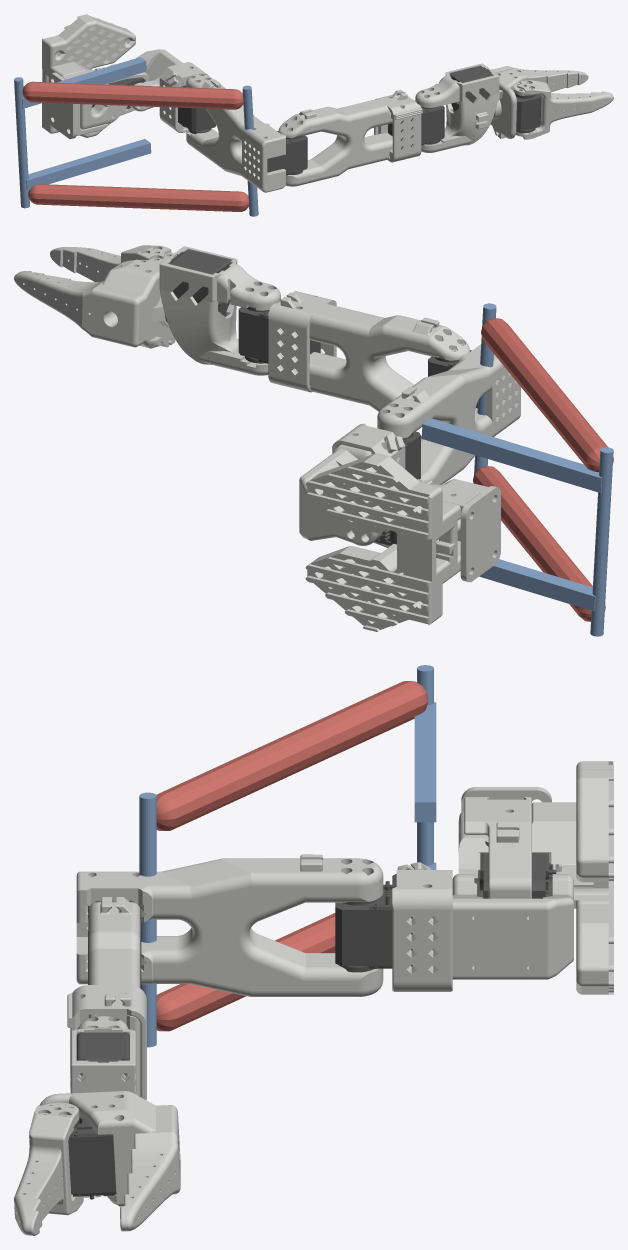
The model's file is so101_assembly.glb.
3 views of the same model, one above another, from view 1: azimuth 30°, elevation 25°; view 2: azimuth 150°, elevation 25°; view 3: azimuth 270°, elevation 25° (orthographic). The views are drawn at different scales.
Parts seen in each view (by area): view 1: under_arm_so101_v1, upper_arm_so101_v1, base_so101_v2, mckibben_muscle_1, mckibben_muscle_2, wrist_roll_pitch_so101_v2, wrist_roll_follower_so101_v1, moving_jaw_so101_v1, motor_holder_so101_wrist_v1, outrigger_beam_2, outrigger_beam_1, lower_crossbar (+10 smaller); view 2: base_so101_v2, under_arm_so101_v1, upper_arm_so101_v1, wrist_roll_follower_so101_v1, wrist_roll_pitch_so101_v2, mckibben_muscle_1, motor_holder_so101_wrist_v1, outrigger_beam_1, mckibben_muscle_2, waveshare_mounting_plate_so101_v2, rotation_pitch_so101_v1, outrigger_beam_2 (+8 smaller); view 3: upper_arm_so101_v1, base_so101_v2, mckibben_muscle_1, rotation_pitch_so101_v1, wrist_roll_follower_so101_v1, motor_holder_so101_base_v1, moving_jaw_so101_v1, base_motor_holder_so101_v1, under_arm_so101_v1, sts3215_03a_v1_2, mckibben_muscle_2, motor_holder_so101_wrist_v1 (+8 smaller).
Boxes of the visible parts, bbox=[...] form: under_arm_so101_v1: bbox=[278, 99, 392, 186]; upper_arm_so101_v1: bbox=[186, 74, 285, 192]; base_so101_v2: bbox=[42, 14, 135, 137]; mckibben_muscle_1: bbox=[22, 81, 243, 109]; mckibben_muscle_2: bbox=[28, 184, 249, 211]; wrist_roll_pitch_so101_v2: bbox=[415, 63, 502, 152]; wrist_roll_follower_so101_v1: bbox=[490, 66, 588, 138]; moving_jaw_so101_v1: bbox=[513, 80, 613, 139]; motor_holder_so101_wrist_v1: bbox=[374, 89, 422, 162]; outrigger_beam_2: bbox=[26, 139, 151, 190]; outrigger_beam_1: bbox=[22, 57, 146, 108]; lower_crossbar: bbox=[14, 77, 29, 208]; base_so101_v2: bbox=[305, 453, 460, 631]; under_arm_so101_v1: bbox=[279, 304, 470, 411]; upper_arm_so101_v1: bbox=[377, 344, 520, 484]; wrist_roll_follower_so101_v1: bbox=[14, 259, 175, 348]; wrist_roll_pitch_so101_v2: bbox=[159, 246, 280, 375]; mckibben_muscle_1: bbox=[481, 318, 613, 472]; motor_holder_so101_wrist_v1: bbox=[268, 291, 336, 392]; outrigger_beam_1: bbox=[421, 418, 602, 492]; mckibben_muscle_2: bbox=[473, 466, 605, 621]; waveshare_mounting_plate_so101_v2: bbox=[460, 486, 500, 582]; rotation_pitch_so101_v1: bbox=[299, 445, 382, 545]; outrigger_beam_2: bbox=[479, 559, 595, 611]; upper_arm_so101_v1: bbox=[76, 854, 383, 996]; base_so101_v2: bbox=[458, 761, 613, 994]; mckibben_muscle_1: bbox=[156, 681, 428, 830]; rotation_pitch_so101_v1: bbox=[408, 874, 573, 979]; wrist_roll_follower_so101_v1: bbox=[39, 1091, 180, 1231]; motor_holder_so101_base_v1: bbox=[392, 862, 452, 991]; moving_jaw_so101_v1: bbox=[14, 1102, 83, 1235]; base_motor_holder_so101_v1: bbox=[464, 797, 531, 898]; under_arm_so101_v1: bbox=[88, 897, 140, 1096]; sts3215_03a_v1_2: bbox=[335, 881, 433, 972]; mckibben_muscle_2: bbox=[156, 913, 335, 1031]; motor_holder_so101_wrist_v1: bbox=[67, 985, 146, 1099].
Bounding box in the file's own units: 498 × 132 × 278.
